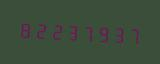eight: (17, 16, 31, 41)
nine: (92, 20, 106, 45)
seven: (77, 19, 91, 44), (122, 22, 136, 46)
three: (107, 21, 121, 46), (62, 19, 76, 43)
two: (32, 17, 46, 42), (47, 18, 61, 43)
